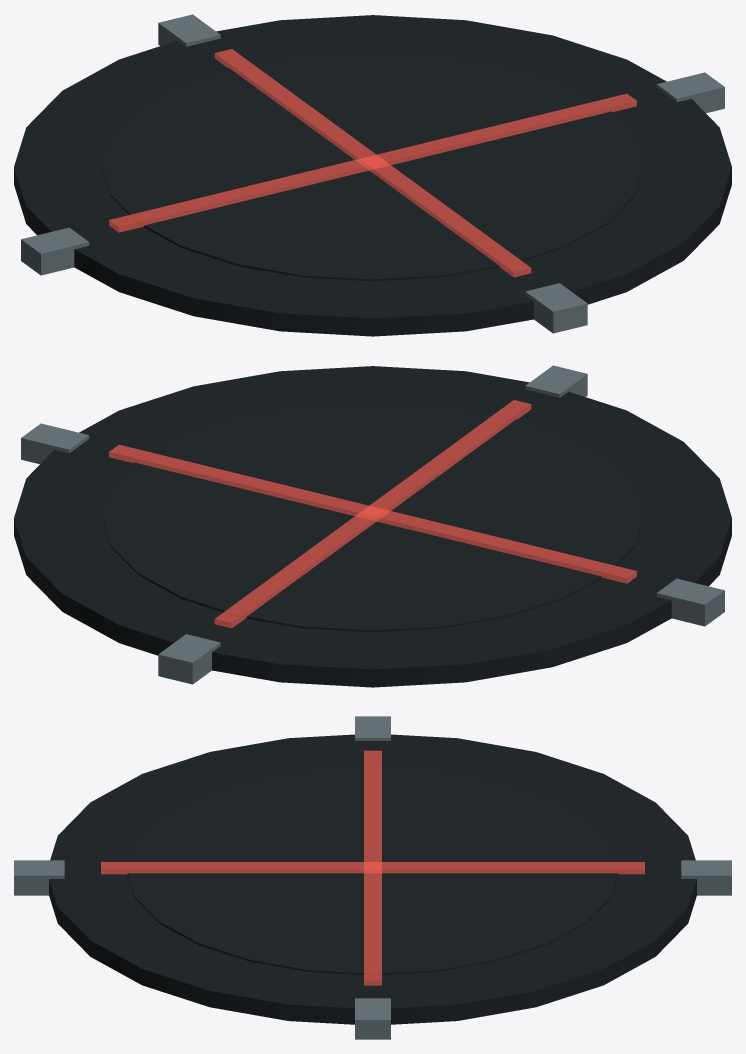
Rendered from hp_room_rm_core_arena_marker.glb.
3 renders of one model, top to bottom at view 1: azimuth 30°, elevation 25°; view 2: azimuth 150°, elevation 25°; view 3: azimuth 270°, elevation 25°, orthographic. The views are drawn at different scales.
Visible parts, largest first — view 1: marker_inner, marker_ring, ring_glow_a, ring_glow_b, bolt_lug_3.141592653589793, bolt_lug_1.5707963267948966, bolt_lug_0, bolt_lug_4.71238898038469; view 2: marker_inner, marker_ring, ring_glow_a, ring_glow_b, bolt_lug_3.141592653589793, bolt_lug_4.71238898038469, bolt_lug_0, bolt_lug_1.5707963267948966; view 3: marker_inner, marker_ring, ring_glow_b, ring_glow_a, bolt_lug_1.5707963267948966, bolt_lug_4.71238898038469, bolt_lug_0, bolt_lug_3.141592653589793.
Part boxes in pixels (x1,y1,x2,y2): marker_inner: [101, 50, 644, 281]; marker_ring: [14, 15, 731, 336]; ring_glow_a: [109, 93, 636, 232]; ring_glow_b: [214, 49, 531, 277]; bolt_lug_3.141592653589793: [21, 227, 89, 275]; bolt_lug_1.5707963267948966: [525, 283, 587, 333]; bolt_lug_0: [656, 72, 724, 113]; bolt_lug_4.71238898038469: [158, 14, 220, 46]; marker_inner: [101, 401, 644, 632]; marker_ring: [14, 366, 731, 687]; ring_glow_a: [109, 444, 636, 583]; ring_glow_b: [214, 400, 531, 628]; bolt_lug_3.141592653589793: [656, 578, 724, 626]; bolt_lug_4.71238898038469: [158, 634, 220, 684]; bolt_lug_0: [21, 423, 89, 464]; bolt_lug_1.5707963267948966: [525, 365, 587, 397]; marker_inner: [126, 765, 619, 975]; marker_ring: [49, 734, 696, 1024]; ring_glow_b: [101, 862, 644, 874]; ring_glow_a: [364, 750, 381, 985]; bolt_lug_1.5707963267948966: [14, 860, 64, 895]; bolt_lug_4.71238898038469: [681, 860, 731, 895]; bolt_lug_0: [355, 998, 390, 1039]; bolt_lug_3.141592653589793: [355, 716, 390, 740].
Size of the model in its own units: 1.98 by 0.0675 by 1.98.
